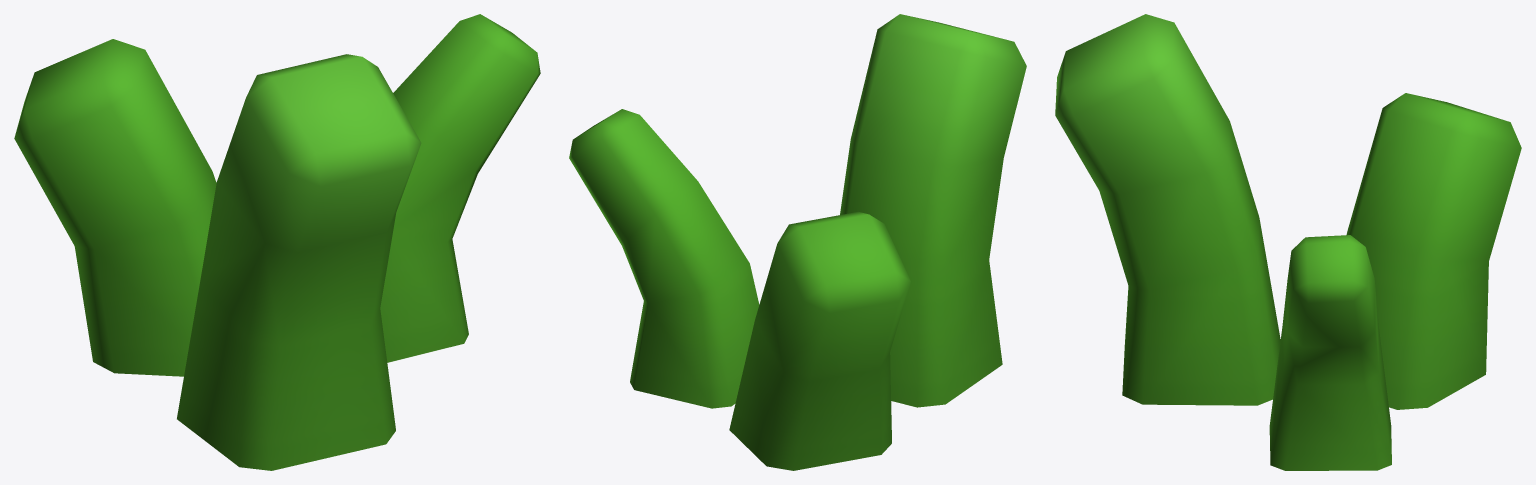
Rendered from Grass_2_2.obj.
3 views of the same model, side by side, from view 1: azimuth 30°, elevation 25°; view 2: azimuth 150°, elevation 25°; view 3: azimuth 270°, elevation 25° (orthographic). The views are drawn at different scales.
Parts seen in each view (by area): view 1: Grass_2_2; view 2: Grass_2_2; view 3: Grass_2_2.
Boxes of the visible parts, x1,y1,x2,y2 form: Grass_2_2: (14, 14, 540, 470); Grass_2_2: (569, 14, 1026, 470); Grass_2_2: (1055, 14, 1521, 470).
Bounding box in the file's own units: 0.2267 × 0.1858 × 0.2324.
